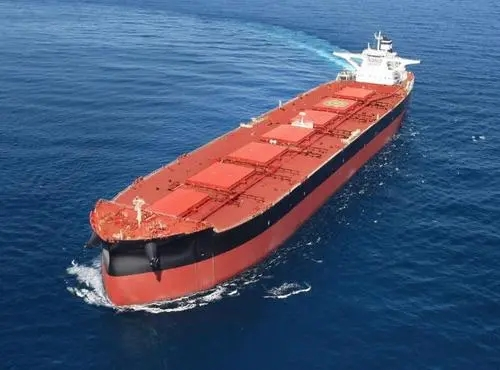Cargoship: (83, 31, 421, 307)
